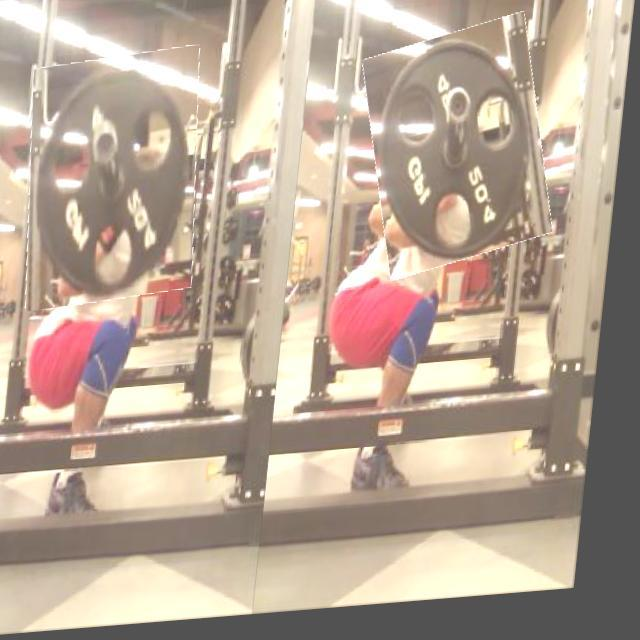barbell: (359, 26, 565, 284), (22, 51, 215, 311)
